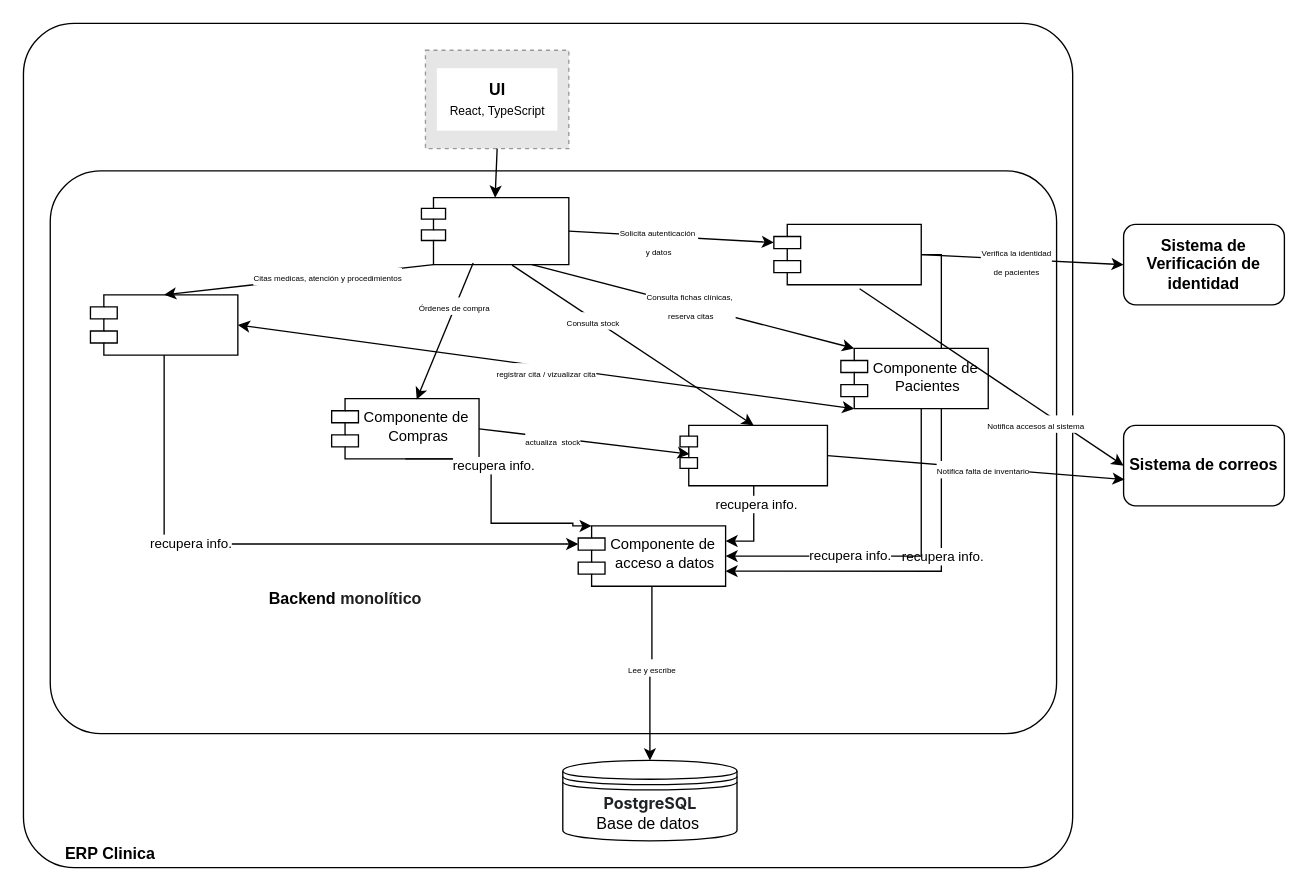
This 1308x891 diagram has some shape labels left out. Grey dashed boxes stand in for pictures. The box of each missing label's shape, as (x1, y1, x2, y2) in pixels:
Componente de autenticación: (773, 223, 921, 285)
Componente de inventario: (679, 424, 827, 486)
Componente de Servicio de Salud: (89, 293, 238, 355)
Controlador API REST NestJS: (420, 196, 569, 265)
